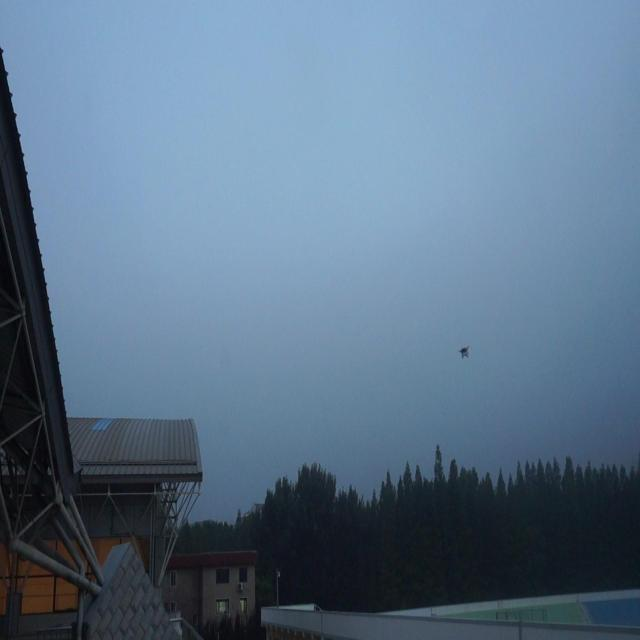drone: (458, 344, 471, 359)
